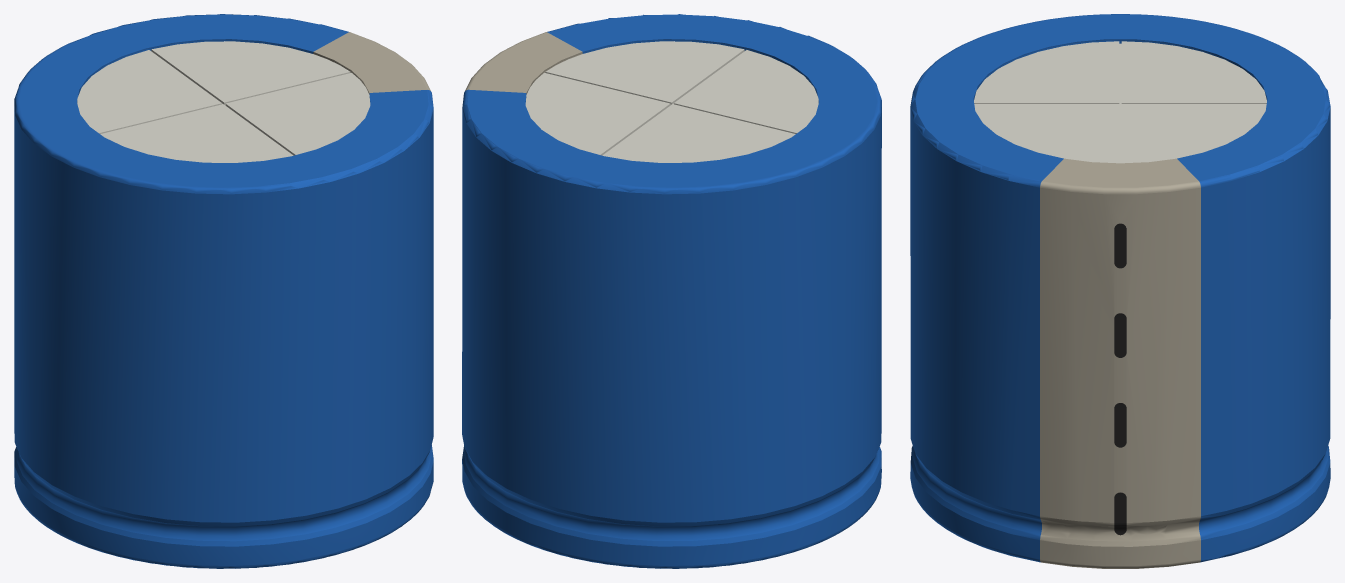
The model's file is kc-cp_radial_d17.0mm_p7.50mm.glb.
3 renders of one model, left to right at view 1: azimuth 30°, elevation 25°; view 2: azimuth 150°, elevation 25°; view 3: azimuth 270°, elevation 25°, orthographic.
Visible parts, largest first — view 1: 0_0.16666666666666666_0.5_0, 0.6666666666666666_0.6666666666666666_0.5833333333333334_0.8, 0.4166666666666667_0.4166666666666667_0.3333333333333333_0; view 2: 0_0.16666666666666666_0.5_0, 0.6666666666666666_0.6666666666666666_0.5833333333333334_0.8, 0.4166666666666667_0.4166666666666667_0.3333333333333333_0; view 3: 0_0.16666666666666666_0.5_0, 0.4166666666666667_0.4166666666666667_0.3333333333333333_0, 0.6666666666666666_0.6666666666666666_0.5833333333333334_0.8, 0_0_0_0.
Part boxes in pixels (x1=…): 0_0.16666666666666666_0.5_0: x1=14, y1=14, x2=433, y2=568; 0.6666666666666666_0.6666666666666666_0.5833333333333334_0.8: x1=77, y1=41, x2=370, y2=162; 0.4166666666666667_0.4166666666666667_0.3333333333333333_0: x1=313, y1=32, x2=430, y2=94; 0_0.16666666666666666_0.5_0: x1=462, y1=14, x2=881, y2=568; 0.6666666666666666_0.6666666666666666_0.5833333333333334_0.8: x1=525, y1=41, x2=818, y2=162; 0.4166666666666667_0.4166666666666667_0.3333333333333333_0: x1=465, y1=32, x2=582, y2=94; 0_0.16666666666666666_0.5_0: x1=910, y1=14, x2=1330, y2=562; 0.4166666666666667_0.4166666666666667_0.3333333333333333_0: x1=1040, y1=158, x2=1200, y2=568; 0.6666666666666666_0.6666666666666666_0.5833333333333334_0.8: x1=974, y1=41, x2=1266, y2=163; 0_0_0_0: x1=1114, y1=223, x2=1126, y2=535.
Bounding box in the file's own units: 1.7 × 1.9 × 1.7.
